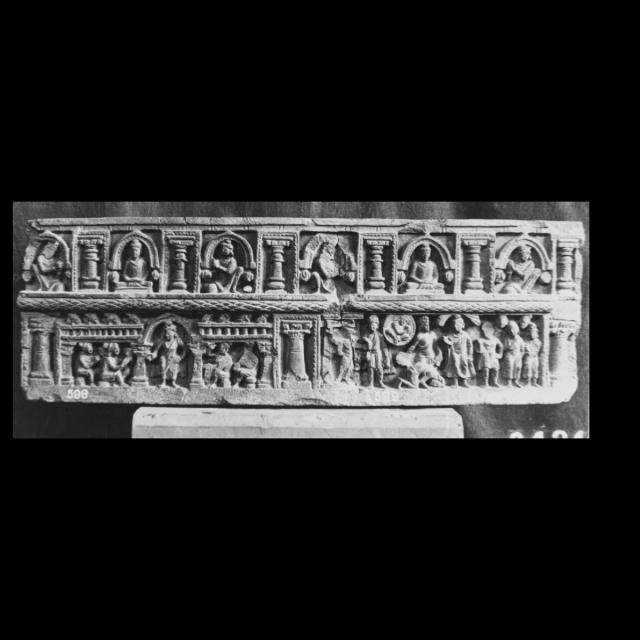buddha-sitting: (301, 231, 358, 291), (203, 230, 256, 292), (495, 234, 551, 292), (398, 237, 453, 296), (112, 231, 160, 290), (25, 233, 71, 293)
buddha-standing: (144, 321, 195, 388), (437, 315, 477, 389)
